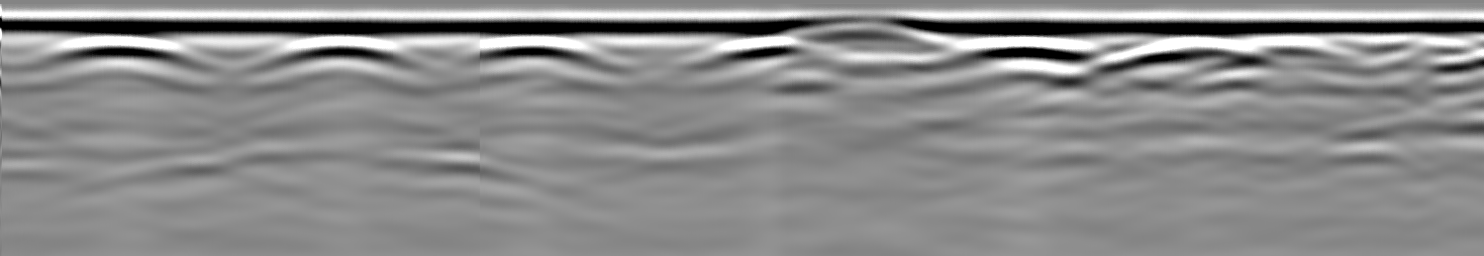pipe: (785, 20, 950, 63)
steel: (1100, 35, 1277, 82), (36, 33, 209, 75), (261, 34, 425, 77), (960, 37, 1106, 83), (459, 35, 614, 74), (671, 35, 795, 80)
